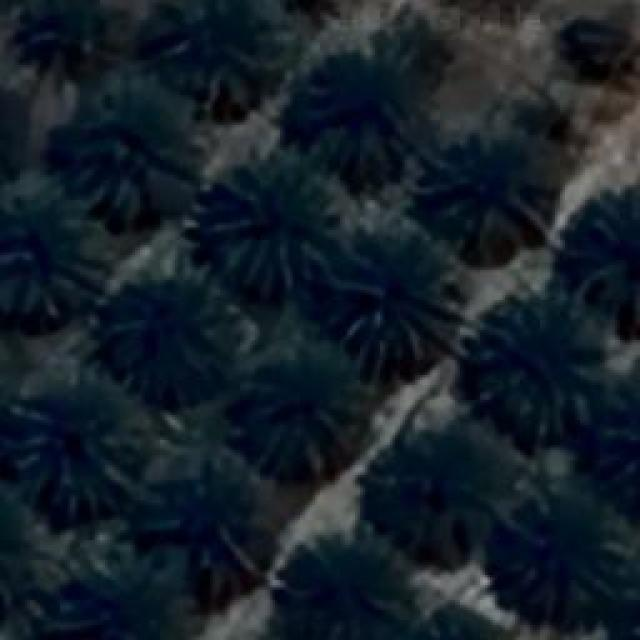PalmTree: (114, 87, 340, 596), (64, 94, 202, 226), (156, 0, 293, 122), (14, 384, 138, 516), (496, 486, 616, 622), (155, 441, 263, 591), (102, 274, 228, 398), (292, 46, 410, 174), (325, 228, 440, 358), (207, 174, 325, 298), (476, 305, 589, 433), (430, 120, 538, 245), (382, 430, 496, 545), (252, 350, 366, 465), (4, 189, 104, 309), (557, 172, 640, 312), (13, 0, 125, 80), (559, 10, 640, 91), (592, 388, 640, 490), (0, 492, 34, 616), (0, 81, 33, 188), (412, 608, 509, 640), (0, 78, 23, 190), (0, 492, 20, 612), (439, 0, 541, 22), (443, 0, 542, 11)
